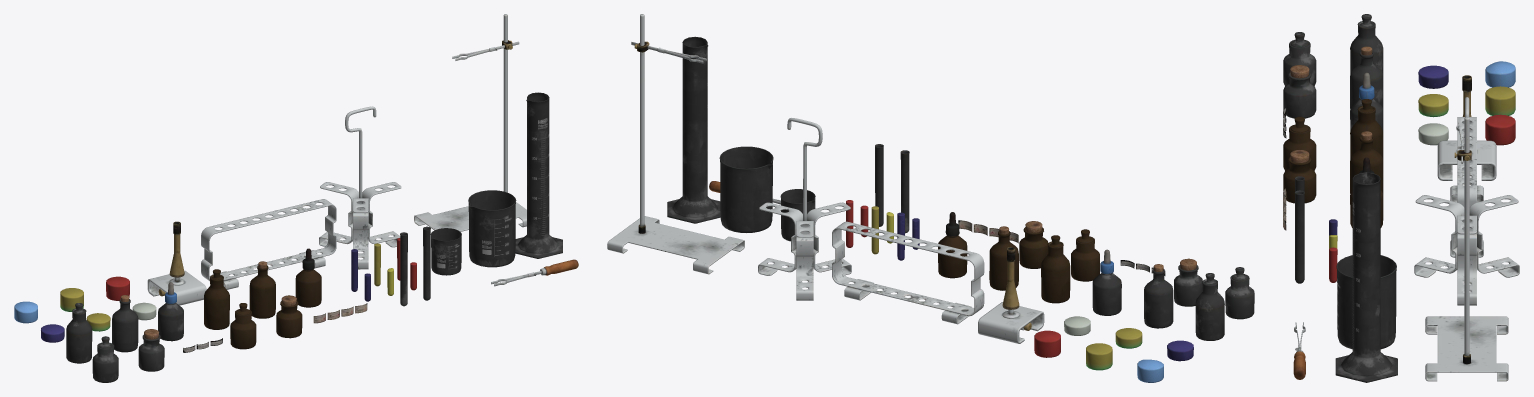
The model's file is chemistry_set.gltf.
3 renders of one model, left to right at view 1: azimuth 30°, elevation 25°; view 2: azimuth 150°, elevation 25°; view 3: azimuth 270°, elevation 25°, orthographic. The views are drawn at different scales.
Parts seen in each view (by area): view 1: chemistry_set_beaker_large, chemistry_set_beaker_med, chemistry_set_test_tube_stand_a, chemistry_set_test_tube_stand_b, chemistry_set_clamp_stand, chemistry_set_bunsen_burner, chemistry_set_beaker_small, chemistry_set_bottle_clear_c, chemistry_set_bottle_dark_c, chemistry_set_bottle_dark_d, chemistry_set_bottle_clear_d, chemistry_set_bottle_dark_e (+11 smaller); view 2: chemistry_set_beaker_large, chemistry_set_clamp_stand, chemistry_set_beaker_med, chemistry_set_test_tube_stand_a, chemistry_set_test_tube_stand_b, chemistry_set_bunsen_burner, chemistry_set_bottle_clear_c, chemistry_set_bottle_dark_c, chemistry_set_bottle_clear_d, chemistry_set_bottle_clear_e, chemistry_set_bottle_dark_d, chemistry_set_bottle_clear_a (+10 smaller); view 3: chemistry_set_beaker_large, chemistry_set_clamp_stand, chemistry_set_test_tube_stand_b, chemistry_set_beaker_med, chemistry_set_bunsen_burner, chemistry_set_test_tube_stand_a, chemistry_set_bottle_clear_b, chemistry_set_bottle_clear_d, chemistry_set_bottle_dark_b, chemistry_set_bottle_dark_c, chemistry_set_bottle_clear_c, chemistry_set_bottle_dark_d (+16 smaller).
Boxes of the visible parts, x1,y1,x2,y2 form: chemistry_set_beaker_large: [515, 92, 562, 258]; chemistry_set_beaker_med: [468, 190, 516, 267]; chemistry_set_test_tube_stand_a: [201, 199, 336, 289]; chemistry_set_test_tube_stand_b: [319, 106, 401, 269]; chemistry_set_clamp_stand: [414, 14, 526, 231]; chemistry_set_bunsen_burner: [147, 221, 206, 305]; chemistry_set_beaker_small: [430, 228, 461, 275]; chemistry_set_bottle_clear_c: [66, 308, 92, 363]; chemistry_set_bottle_dark_c: [204, 275, 229, 329]; chemistry_set_bottle_dark_d: [249, 265, 275, 318]; chemistry_set_bottle_clear_d: [112, 299, 138, 352]; chemistry_set_bottle_dark_e: [295, 269, 321, 307]; chemistry_set_beaker_large: [667, 36, 720, 223]; chemistry_set_clamp_stand: [607, 14, 744, 274]; chemistry_set_beaker_med: [719, 146, 773, 232]; chemistry_set_test_tube_stand_a: [832, 221, 984, 324]; chemistry_set_test_tube_stand_b: [758, 118, 851, 300]; chemistry_set_bunsen_burner: [978, 247, 1044, 343]; chemistry_set_bottle_clear_c: [1195, 279, 1224, 340]; chemistry_set_bottle_dark_c: [1041, 241, 1070, 303]; chemistry_set_bottle_clear_d: [1144, 268, 1173, 328]; chemistry_set_bottle_clear_e: [1092, 273, 1121, 315]; chemistry_set_bottle_dark_d: [989, 231, 1018, 290]; chemistry_set_bottle_clear_a: [1225, 274, 1254, 319]; chemistry_set_beaker_large: [1335, 172, 1397, 382]; chemistry_set_clamp_stand: [1425, 117, 1508, 381]; chemistry_set_test_tube_stand_b: [1414, 97, 1519, 305]; chemistry_set_beaker_med: [1336, 255, 1396, 349]; chemistry_set_bunsen_burner: [1437, 75, 1496, 180]; chemistry_set_test_tube_stand_a: [1450, 117, 1483, 257]; chemistry_set_bottle_clear_b: [1283, 72, 1316, 118]; chemistry_set_bottle_clear_d: [1350, 52, 1383, 109]; chemistry_set_bottle_dark_b: [1283, 157, 1316, 203]; chemistry_set_bottle_dark_c: [1350, 106, 1383, 159]; chemistry_set_bottle_clear_c: [1350, 21, 1383, 74]; chemistry_set_bottle_dark_d: [1350, 136, 1383, 193].
Size of the model in its own units: 1.08 by 0.429 by 0.3539.
Materials: 2 (2 with a texture image).
